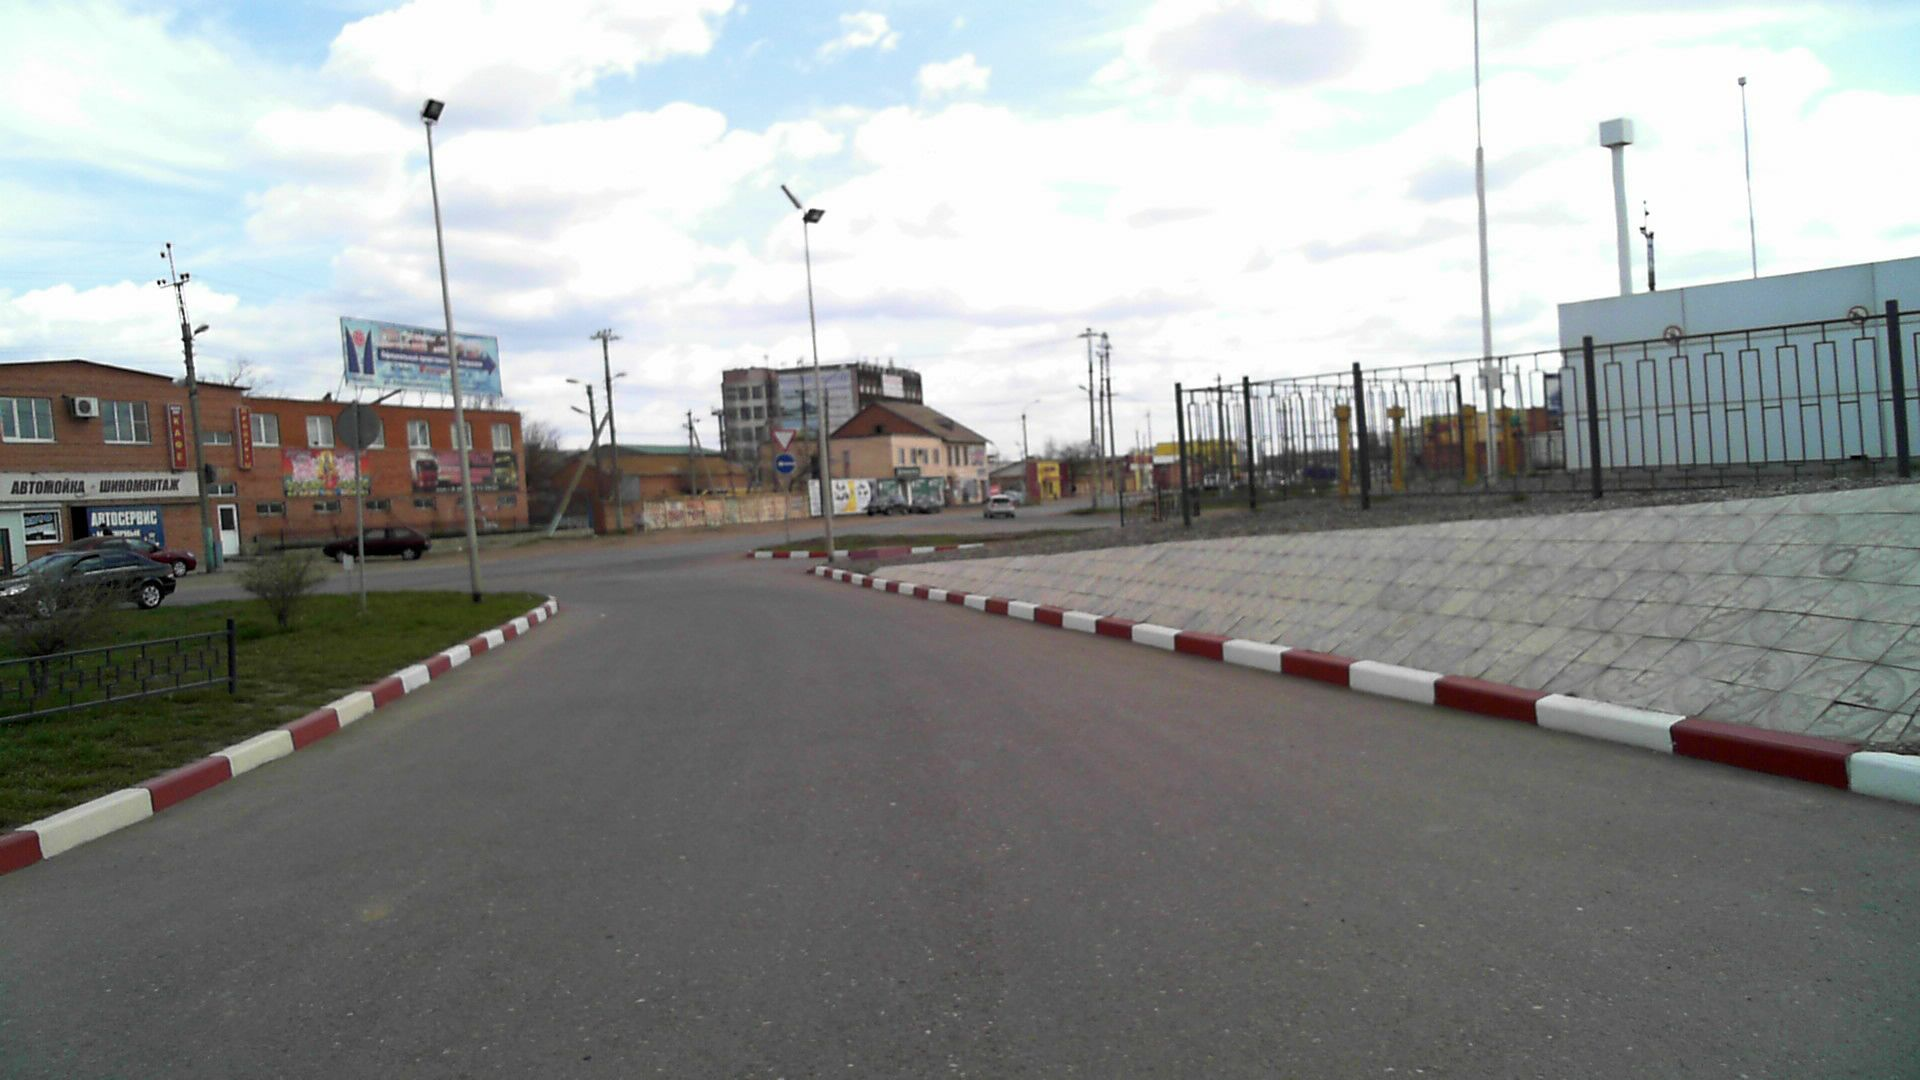Turn Left: (775, 454, 796, 473)
